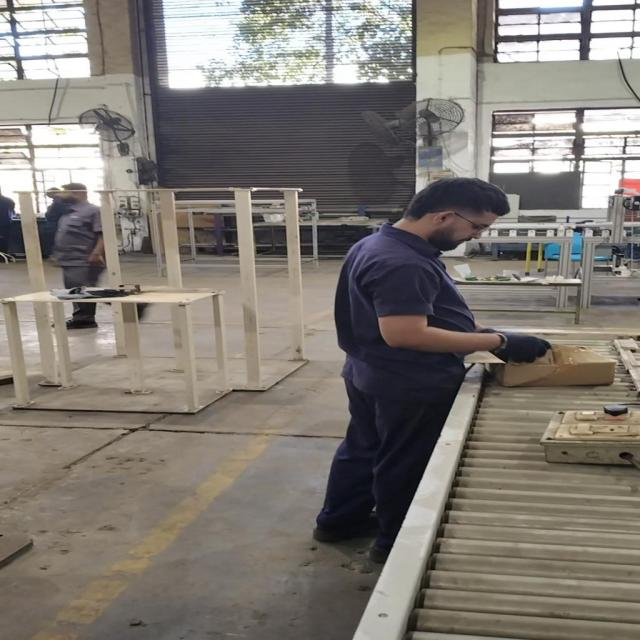Gloves-Detection: (478, 320, 549, 370)
